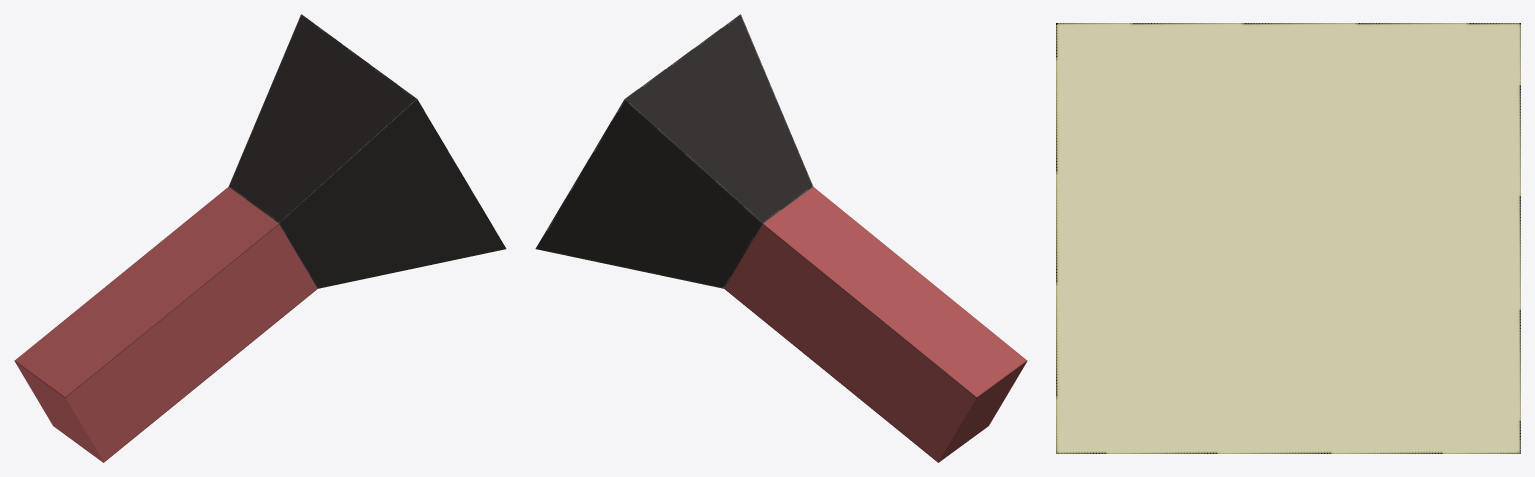
The model's file is Item.obj.
3 views of the same model, side by side, from view 1: azimuth 30°, elevation 25°; view 2: azimuth 150°, elevation 25°; view 3: azimuth 270°, elevation 25° (orthographic). The views are drawn at different scales.
Visible parts, largest first — view 1: Cube; view 2: Cube; view 3: Cube.
Part boxes in pixels (<box>): Cube: <box>14,14,506,462</box>; Cube: <box>535,14,1027,462</box>; Cube: <box>1056,23,1520,453</box>.
Size of the model in its own units: 2.62 by 1.95 by 1.29.
